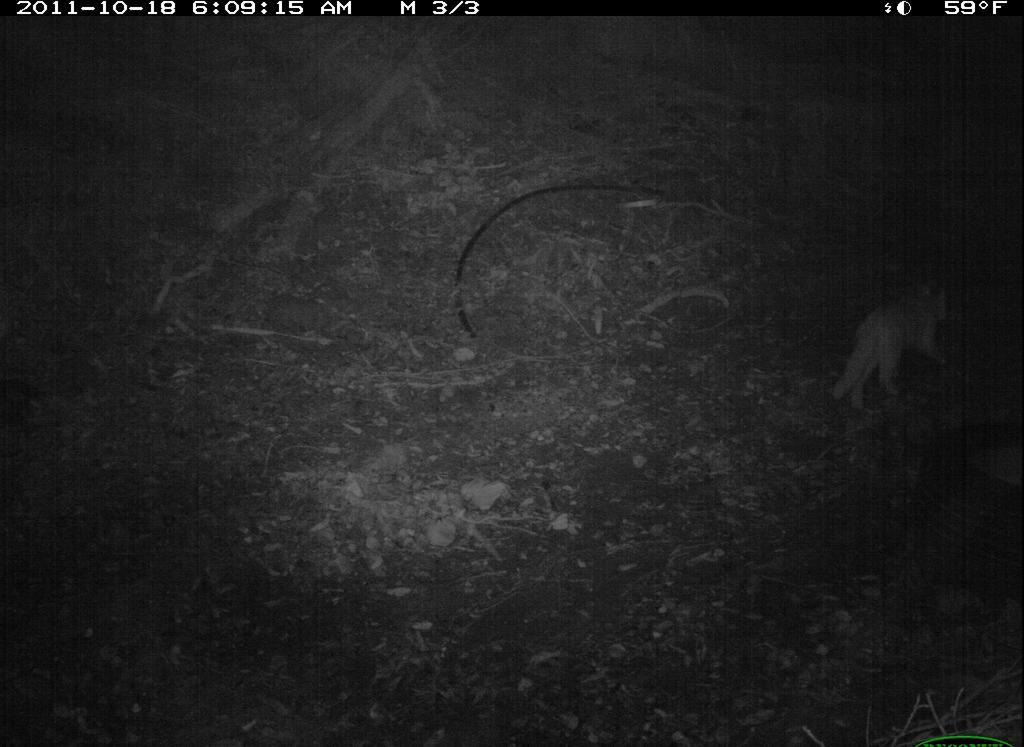cat: (826, 265, 961, 415)
